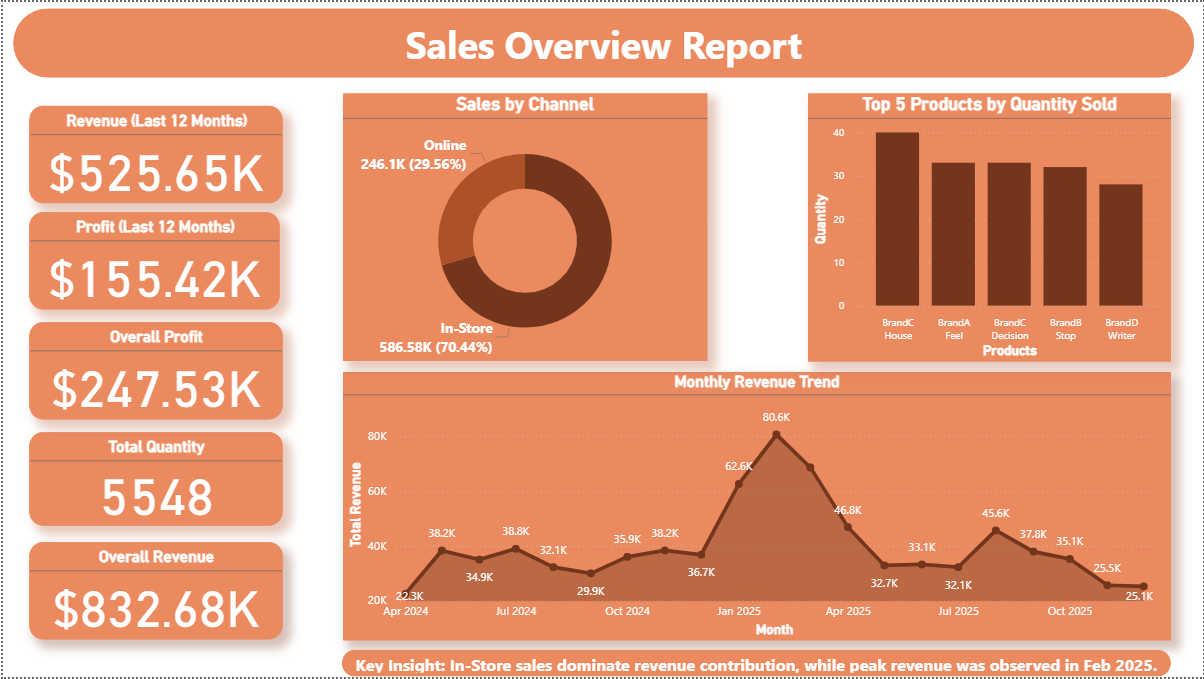

The page's visual inventory and layout, read from the dashboard file:
{"tool":"powerbi","page":{"name":" Sales Overview Report ","canvas":[1280,720],"ordinal":0},"visuals":[{"type":"areaChart","title":"Monthly Revenue Trend","fields":{"Y":["Cleaned Customers.Total Revenue"],"Category":["DateTable.Date.Variation.Date Hierarchy.Year","DateTable.Date.Variation.Date Hierarchy.Month"]},"box":[362.5,394.4,883.3,286.1],"z":0},{"type":"columnChart","title":"Top 5 Products by Quantity Sold","fields":{"Category":["Cleaned Products.product_name"],"Y":["Sum(Cleaned Salesdata.quantity)"]},"box":[858.3,97.2,387.5,286.1],"z":1000},{"type":"donutChart","title":"Sales by Channel","fields":{"Y":["Cleaned Customers.Total Revenue"],"Category":["Cleaned Salesdata.sales_channel"]},"box":[362.9,97.1,388.6,285.7],"z":2000},{"type":"card","title":"Revenue (Last 12 Months)","fields":{"Values":["Cleaned Customers.Revenue Last 12M"]},"box":[23.2,97.8,267.8,90.5],"z":3000},{"type":"card","title":"Total Quantity","fields":{"Values":["Cleaned Customers.Total Quantity"]},"box":[22.5,514.1,269,90.1],"z":4000},{"type":"card","title":"Overall Profit","fields":{"Values":["Cleaned Customers.Total Profit"]},"box":[23.9,405.6,269,91.5],"z":5000},{"type":"card","title":"Return Rate","fields":{"Values":["Cleaned Customers.Return Rate (By Return Date)"]},"box":[23.1,623.1,267.7,90.8],"z":6000},{"type":"card","title":"Profit (Last 12 Months)","fields":{"Values":["Cleaned Customers.Profit Last 12M"]},"box":[23.2,203,266.6,90.5],"z":7000},{"type":"textbox","box":[0,1.3,1280.3,86.3],"z":8000},{"type":"shape","box":[10.8,6.7,1260.1,74.1],"z":9000},{"type":"card","title":"Overall Revenue","fields":{"Values":["Cleaned Customers.Total Revenue"]},"box":[23.9,304.2,267.6,90.1],"z":10000},{"type":"shape","box":[361.8,690.9,884.5,29.1],"z":11000}]}

Visuals, with their boxes in screenshot pixels (x1, y1, x2, y2), scaled from the page's 1280x720 canvas onto the 1204x679 screenshot:
"Monthly Revenue Trend" areaChart: [341,372,1172,642]
"Top 5 Products by Quantity Sold" columnChart: [807,92,1172,361]
"Sales by Channel" donutChart: [341,92,707,361]
"Revenue (Last 12 Months)" card: [22,92,274,178]
"Total Quantity" card: [21,485,274,570]
"Overall Profit" card: [22,383,276,469]
"Return Rate" card: [22,588,274,673]
"Profit (Last 12 Months)" card: [22,191,273,277]
textbox: [0,1,1203,83]
shape: [10,6,1195,76]
"Overall Revenue" card: [22,287,274,372]
shape: [340,652,1172,678]
